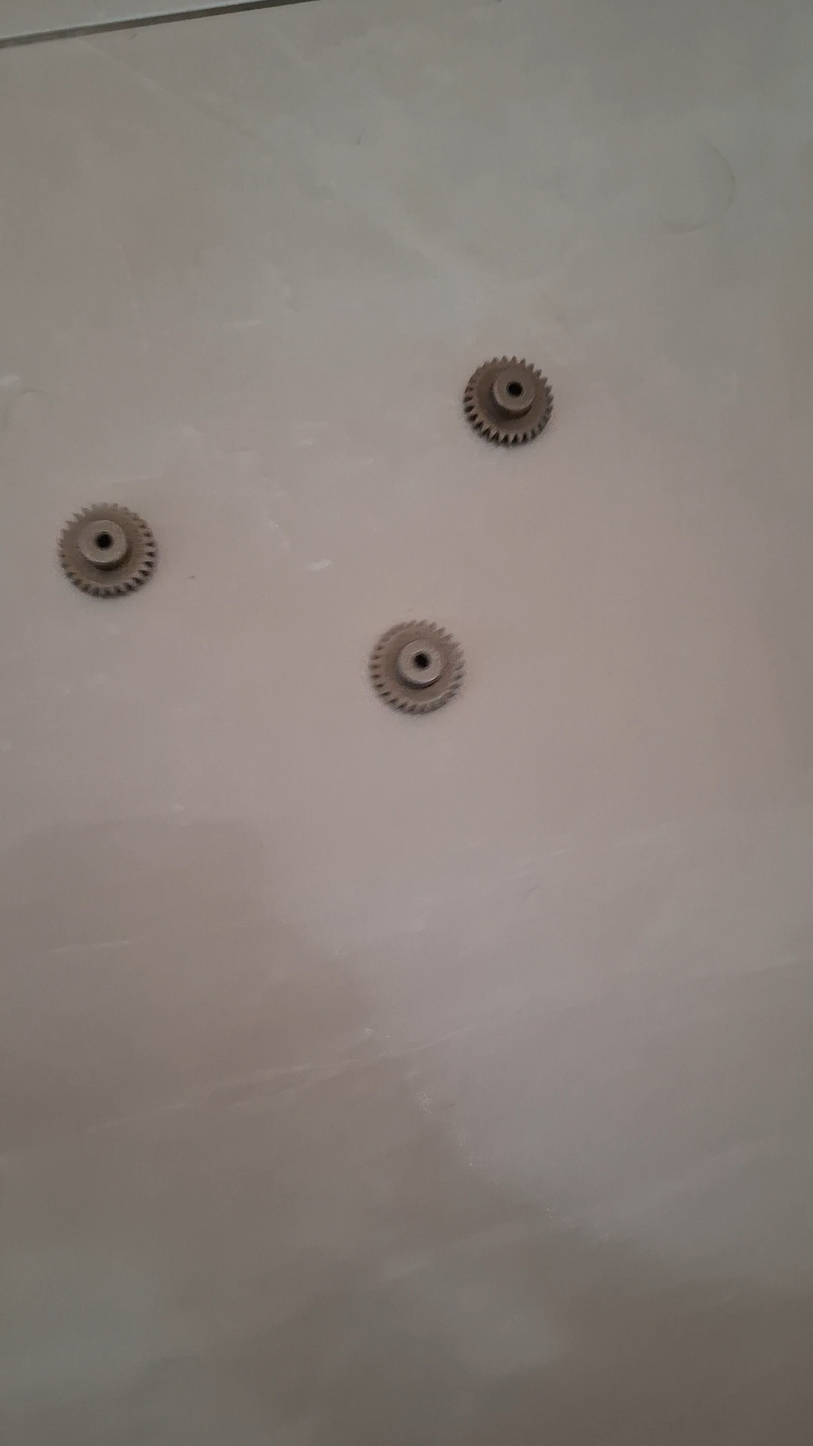spur gear: (59, 504, 157, 597), (370, 620, 463, 713), (463, 357, 553, 445)
